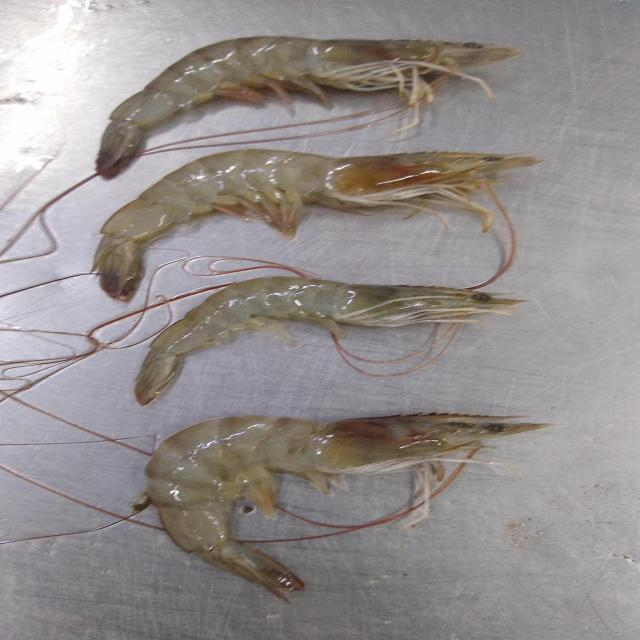shrimp: (136, 412, 547, 599), (93, 149, 540, 300), (98, 36, 518, 178), (136, 276, 522, 405)
